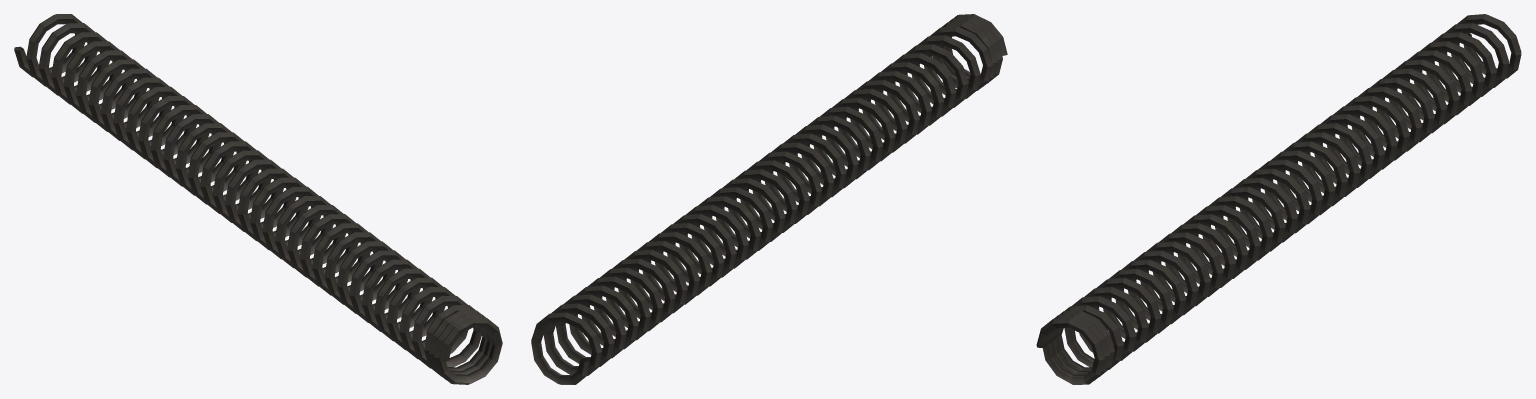
3 views of the same model, side by side, from view 1: azimuth 30°, elevation 25°; view 2: azimuth 150°, elevation 25°; view 3: azimuth 330°, elevation 25° (orthographic).
Parts seen in each view (by area): view 1: TW_57c44b372459772d2b39b8ce_PZ_Import; view 2: TW_57c44b372459772d2b39b8ce_PZ_Import; view 3: TW_57c44b372459772d2b39b8ce_PZ_Import.
Boxes of the visible parts, x1,y1,x2,y2 form: TW_57c44b372459772d2b39b8ce_PZ_Import: [14, 14, 502, 384]; TW_57c44b372459772d2b39b8ce_PZ_Import: [531, 14, 1007, 384]; TW_57c44b372459772d2b39b8ce_PZ_Import: [1036, 14, 1521, 384].
Bounding box in the file's own units: 0.00587 × 0.0661 × 0.00587.
1 material, 1 textured.
